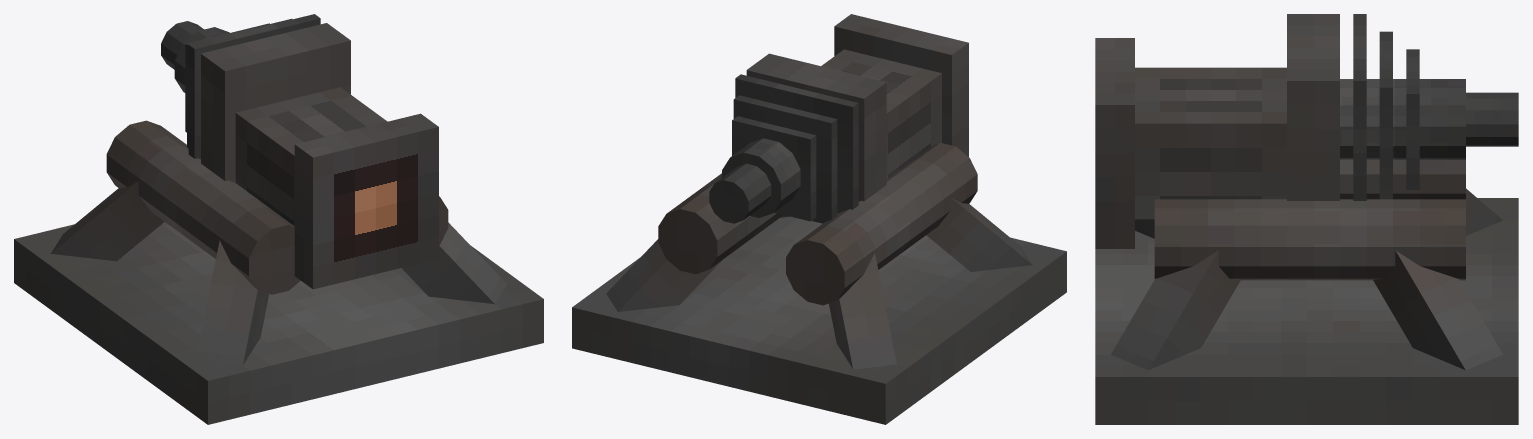
The model's file is chemical_plant_heater.obj.
3 views of the same model, side by side, from view 1: azimuth 30°, elevation 25°; view 2: azimuth 150°, elevation 25°; view 3: azimuth 270°, elevation 25° (orthographic). The views are drawn at different scales.
Visible parts, largest first — view 1: cylinder; view 2: cylinder; view 3: cylinder.
Part boxes in pixels (left/top/right/bottom): cylinder: left=14, top=14, right=543, bottom=424; cylinder: left=572, top=14, right=1066, bottom=424; cylinder: left=1095, top=14, right=1518, bottom=424.
Bounding box in the file's own units: 1 × 0.75 × 1.
